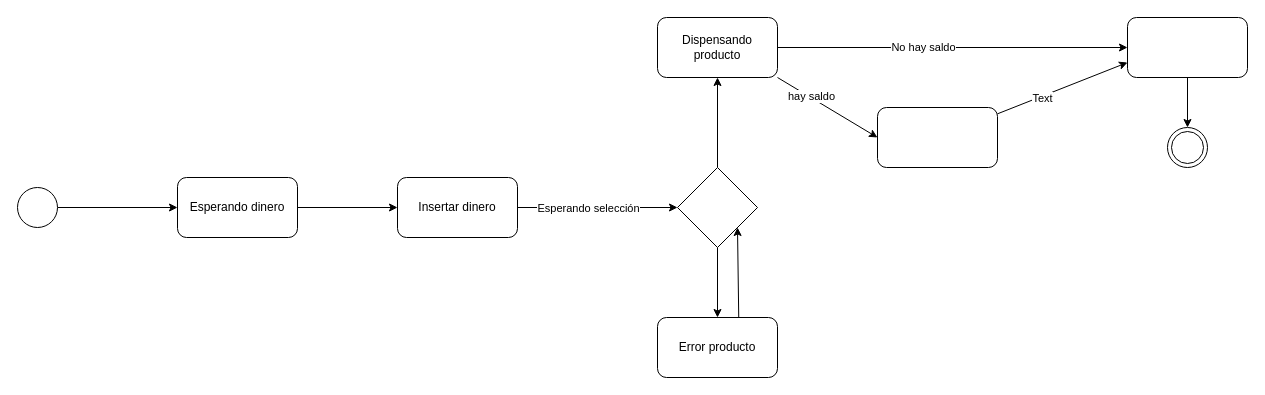
The diagram is 1265 pixels wide and 395 high, and some of its shapes have lost their labels. The centre of each missing label's shape, as x and y in pixels:
"Devolver cambio" belongs at (937,137).
"Fin" belongs at (1187,47).
